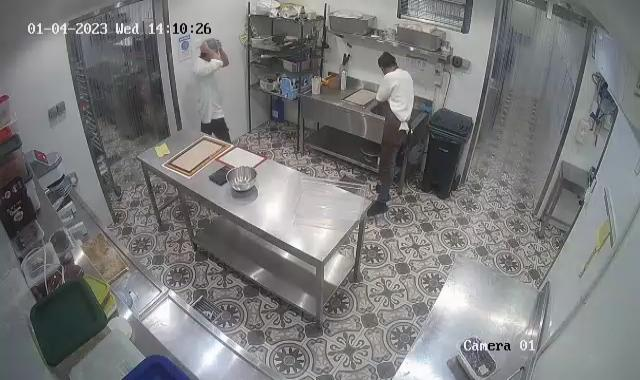hairnet: (198, 38, 222, 61)
no_hairnet: (378, 51, 400, 75)
